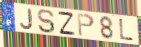8: (99, 16, 114, 40)
J: (19, 8, 34, 31)
L: (118, 18, 135, 42)
P: (77, 13, 96, 38)
S: (37, 9, 57, 34)
Z: (57, 11, 76, 36)
